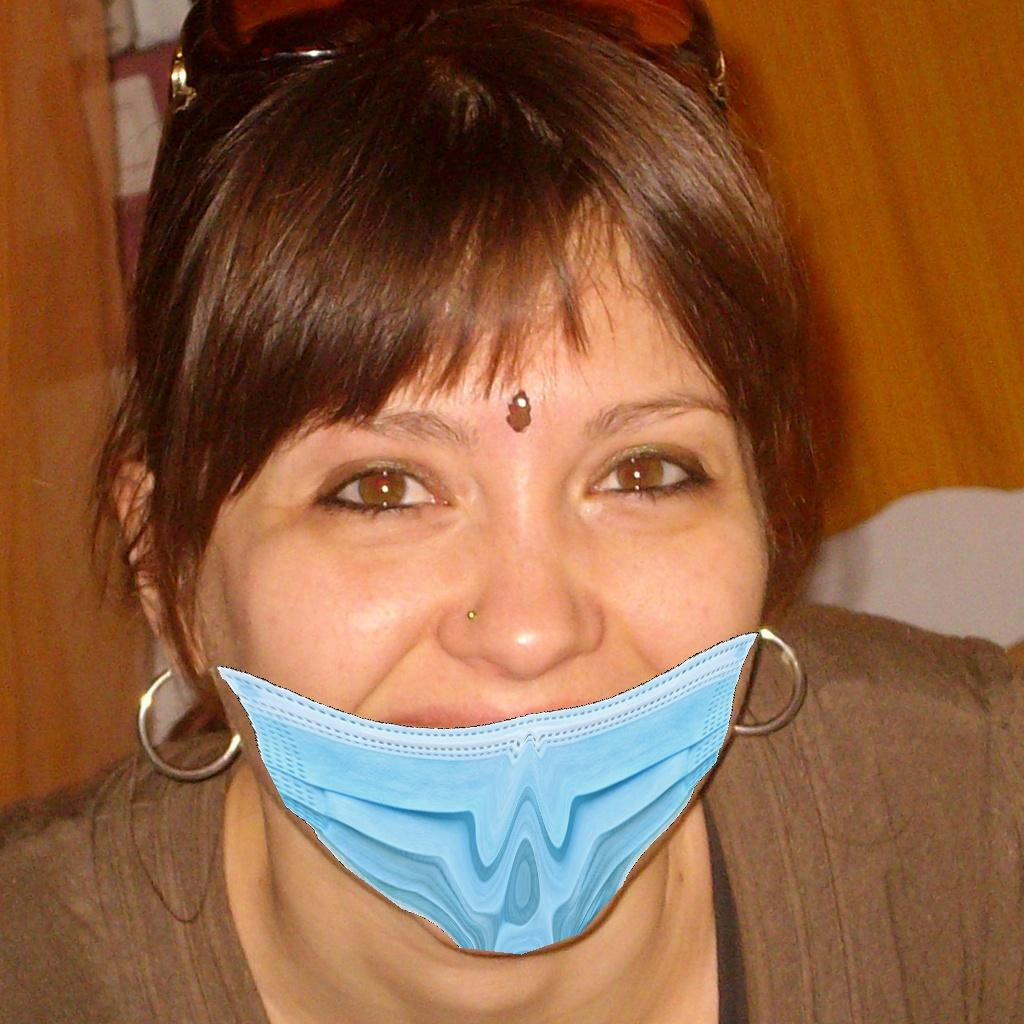Máscara Incorreta: (173, 261, 778, 928)
